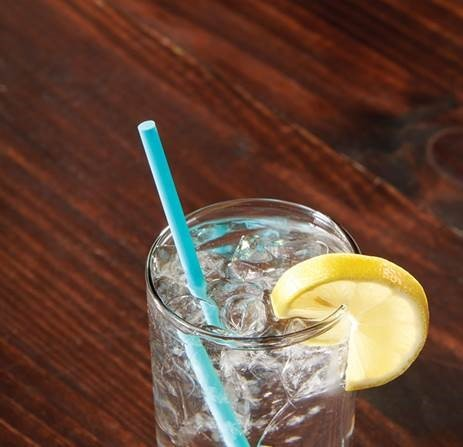Drinking Straw: (133, 118, 229, 332)
